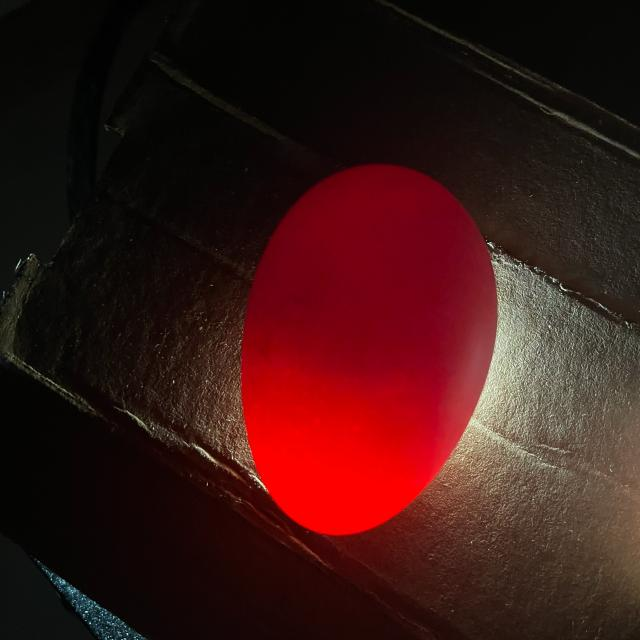fertile: (241, 165, 497, 535)
